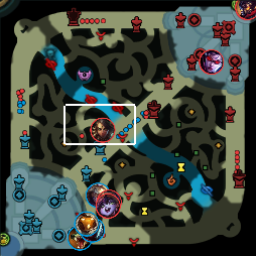bard: (75, 212, 99, 235)
ezreal: (85, 183, 111, 206)
lulu: (94, 192, 121, 217)
nidalee: (88, 117, 114, 141)
renekton: (67, 225, 92, 250)
vayne: (199, 48, 223, 74)
viktor: (234, 1, 256, 20)
